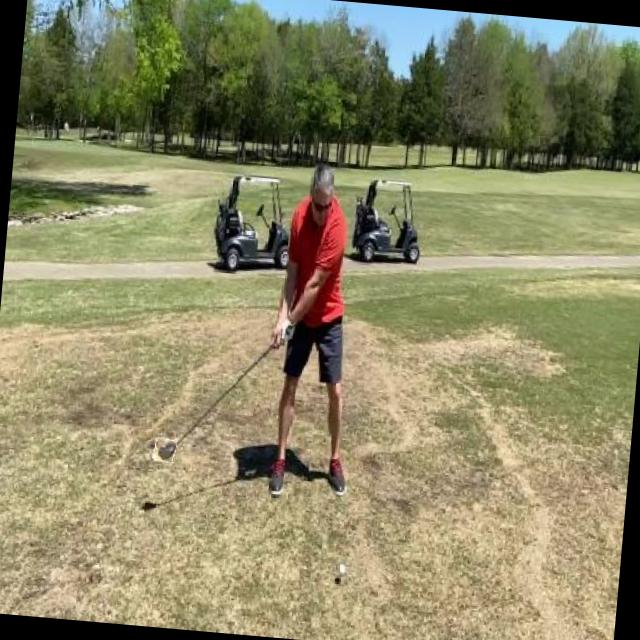club head: (152, 437, 176, 463)
